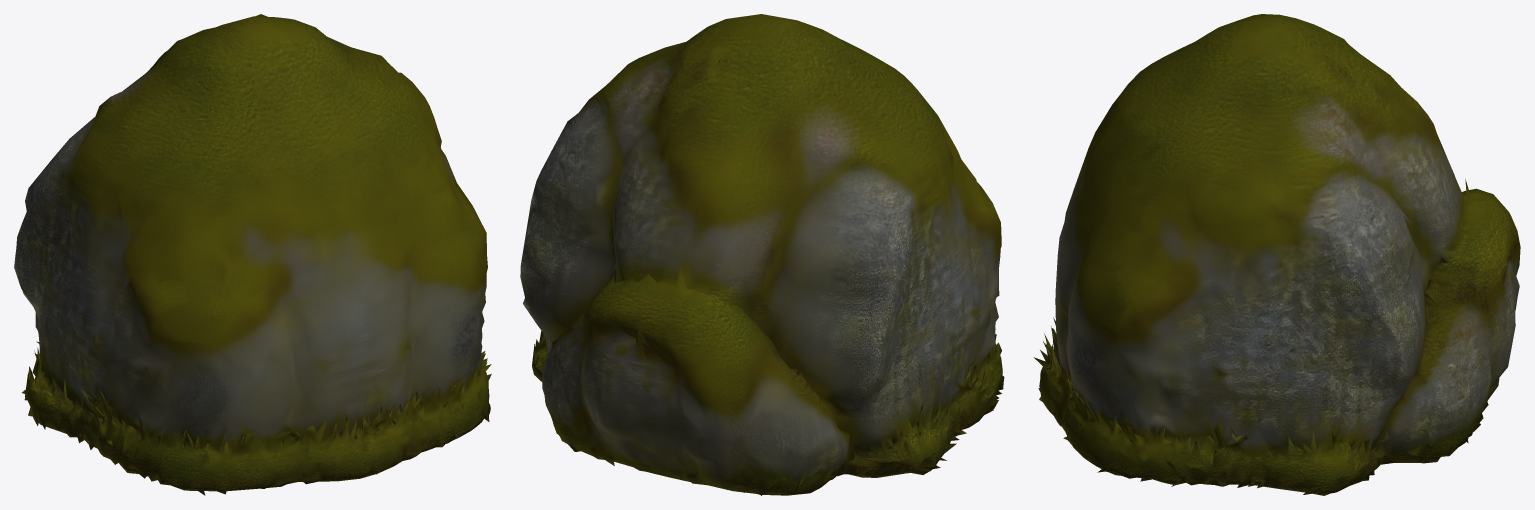
The model's file is steppe-boulder-tripo.glb.
The picture shows the model from 3 angles, left to right: view 1: azimuth 30°, elevation 25°; view 2: azimuth 150°, elevation 25°; view 3: azimuth 270°, elevation 25°; orthographic projection.
Parts seen in each view (by area): view 1: tripo_node_7a9709da-4291-4609-a248-b9a7a82aea05; view 2: tripo_node_7a9709da-4291-4609-a248-b9a7a82aea05; view 3: tripo_node_7a9709da-4291-4609-a248-b9a7a82aea05.
Boxes of the visible parts, <box> form: tripo_node_7a9709da-4291-4609-a248-b9a7a82aea05: <box>14,14,491,495</box>; tripo_node_7a9709da-4291-4609-a248-b9a7a82aea05: <box>520,14,1004,495</box>; tripo_node_7a9709da-4291-4609-a248-b9a7a82aea05: <box>1033,14,1520,495</box>.
Bounding box in the file's own units: 0.9444 × 0.8644 × 1.
1 material, 1 textured.
